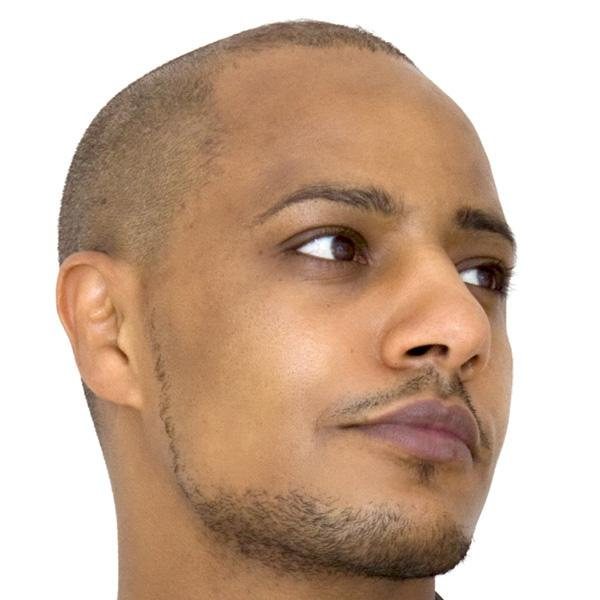Eyes: (277, 214, 375, 278), (446, 243, 513, 305)
